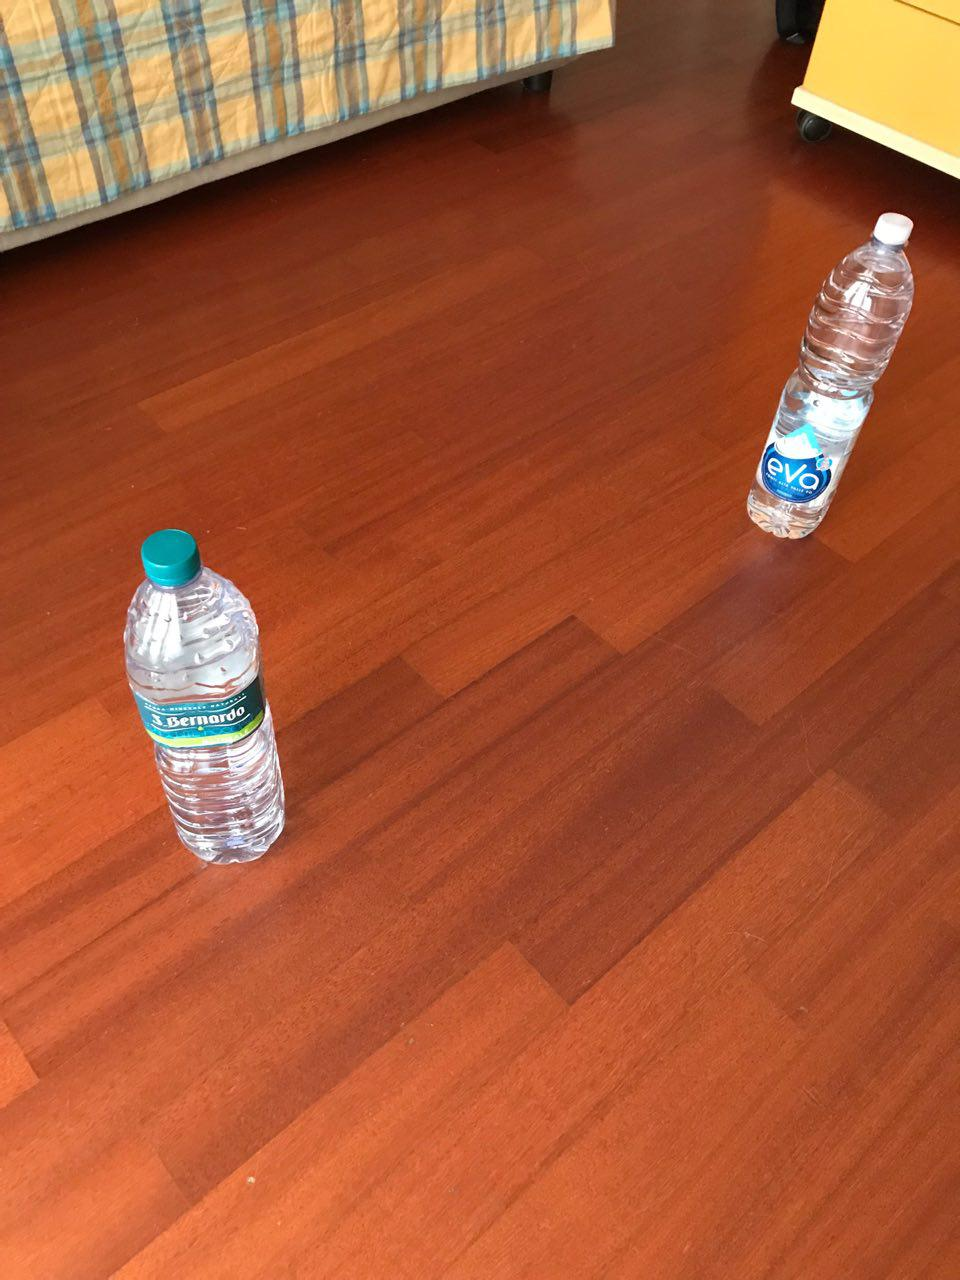san_bernardo: (122, 527, 288, 867)
